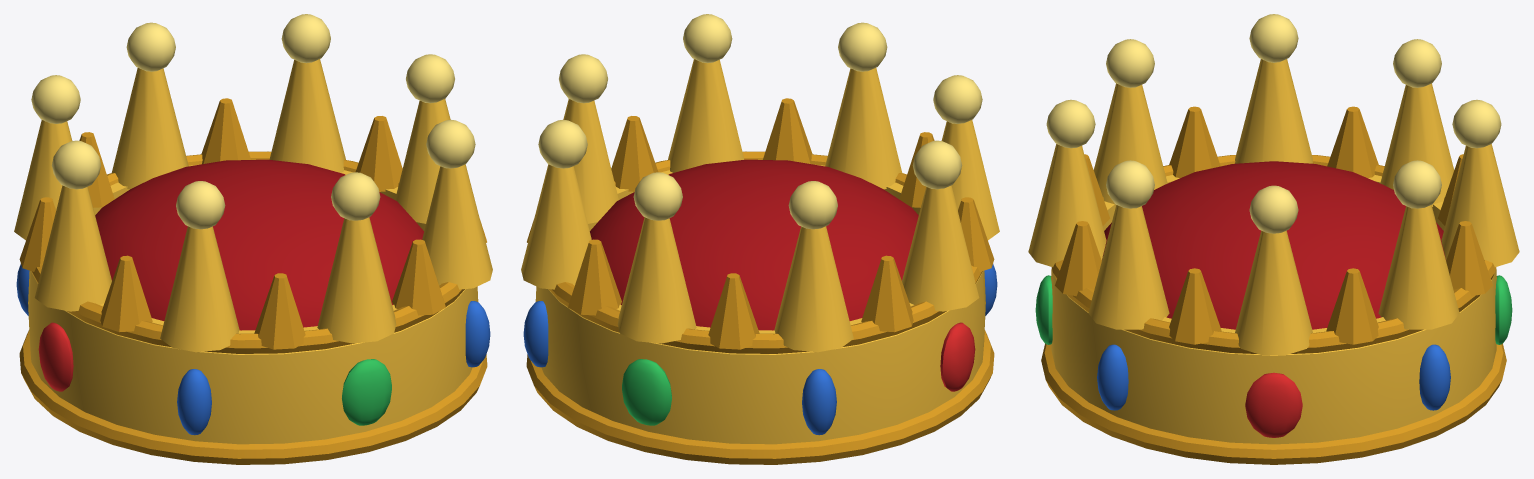
File: crown.glb
The picture shows the model from 3 angles, left to right: view 1: azimuth 30°, elevation 25°; view 2: azimuth 150°, elevation 25°; view 3: azimuth 270°, elevation 25°; orthographic projection.
Parts seen in each view (by area): view 1: CROWN; view 2: CROWN; view 3: CROWN.
Boxes of the visible parts, left/top/right/bottom form: CROWN: left=14, top=14, right=492, bottom=464; CROWN: left=521, top=14, right=999, bottom=464; CROWN: left=1028, top=14, right=1519, bottom=464.
Size of the model in its own units: 22.81 by 14.34 by 23.
